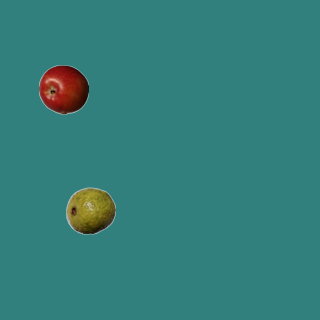Apple Braeburn: (38, 64, 88, 114)
Guava: (65, 185, 115, 235)
